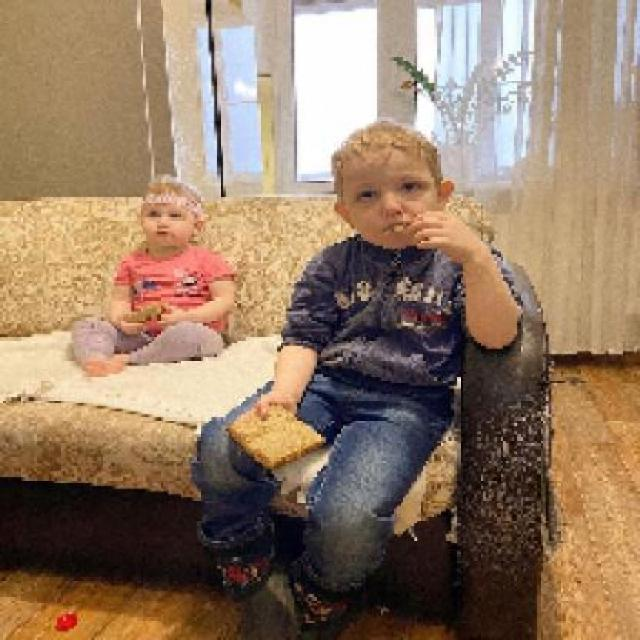child: (192, 120, 528, 637), (70, 180, 239, 374)
